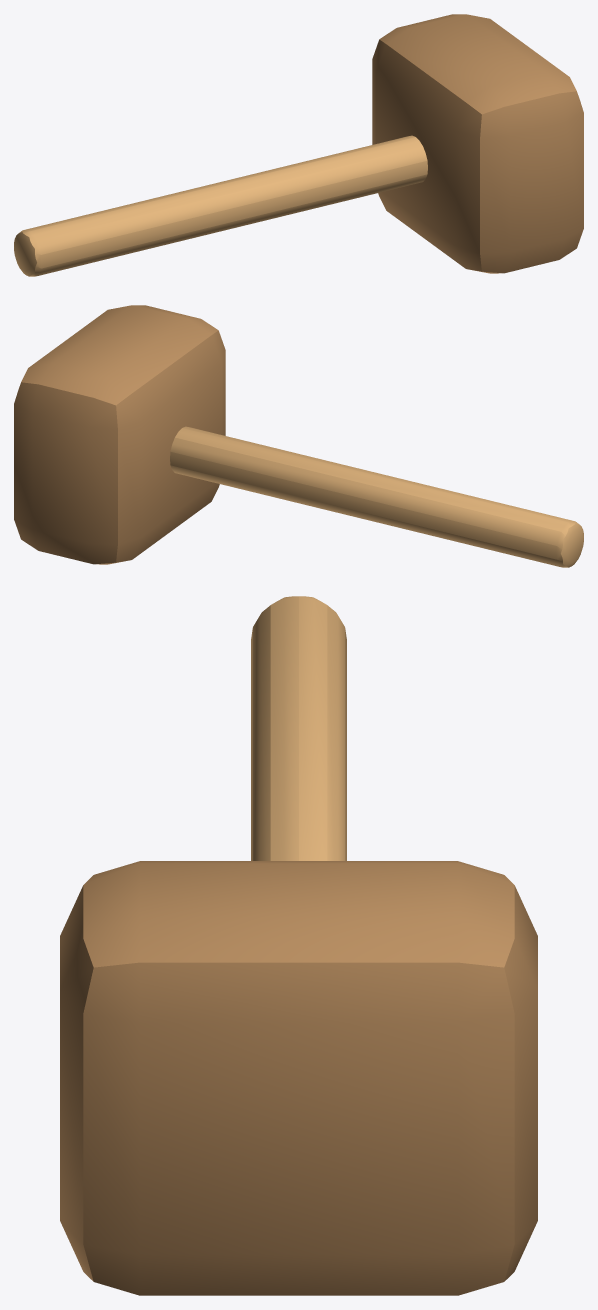
Rendered from mallet.glb.
3 renders of one model, top to bottom at view 1: azimuth 30°, elevation 25°; view 2: azimuth 150°, elevation 25°; view 3: azimuth 270°, elevation 25°, orthographic. The views are drawn at different scales.
Visible parts, largest first — view 1: crate, pine; view 2: crate, pine; view 3: crate, pine.
Part boxes in pixels (x1=…): crate: x1=372, y1=14, x2=583, y2=273; pine: x1=14, y1=135, x2=427, y2=276; crate: x1=14, y1=305, x2=225, y2=564; pine: x1=170, y1=426, x2=583, y2=567; crate: x1=60, y1=861, x2=537, y2=1295; pine: x1=251, y1=596, x2=346, y2=860.
Size of the model in its own units: 0.375 by 0.13 by 0.15.
